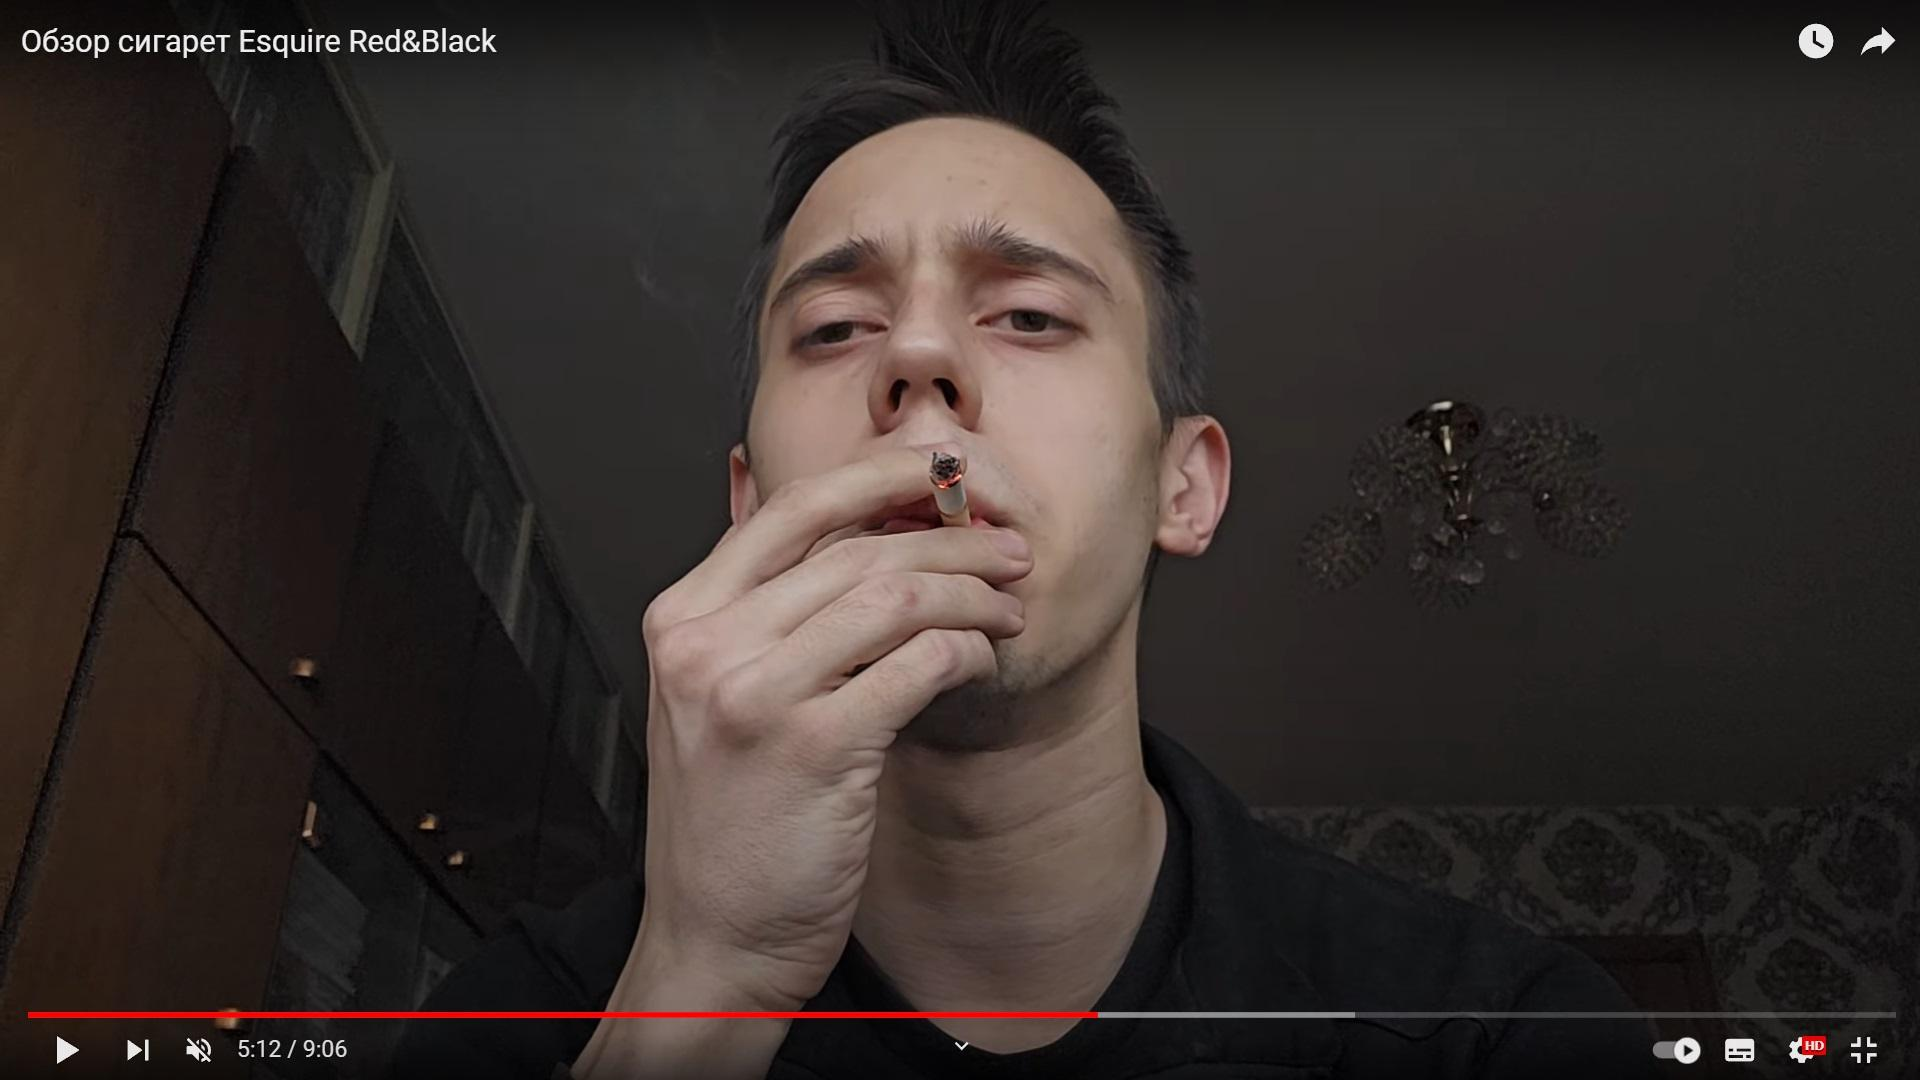cigarette: (928, 450, 972, 527)
